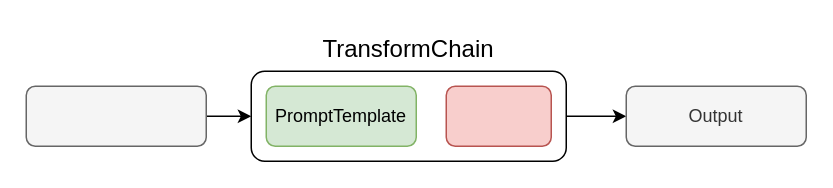
This 833x188 diagram has some shape labels left out. Here are the shapes that lost their labels. From the top down, the centre of each, then its label:
At (x=115, y=115): "Input".
At (x=498, y=115): "Función".
